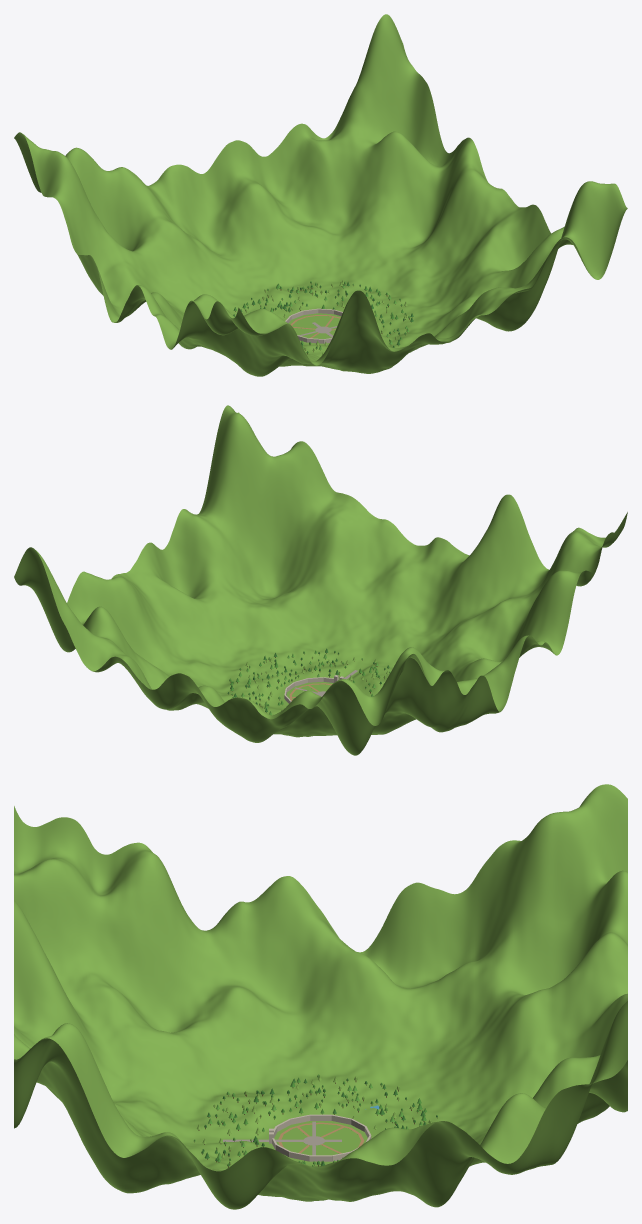
Rendered from kingdom_hy.glb.
The picture shows the model from 3 angles, top to bottom: view 1: azimuth 30°, elevation 25°; view 2: azimuth 150°, elevation 25°; view 3: azimuth 270°, elevation 25°; orthographic projection. The views are drawn at different scales.
Parts seen in each view (by area): view 1: Terrain-col, TreeLeaves; view 2: Terrain-col, TreeLeaves; view 3: Terrain-col, TreeLeaves, HiddenColWalls-col, Roads.
Part boxes in pixels (left/top/right/bottom): Terrain-col: left=14, top=14, right=627, bottom=376; TreeLeaves: left=233, top=280, right=413, bottom=355; Terrain-col: left=14, top=405, right=627, bottom=755; TreeLeaves: left=227, top=648, right=390, bottom=715; Terrain-col: left=14, top=784, right=627, bottom=1209; TreeLeaves: left=194, top=1074, right=437, bottom=1166; HiddenColWalls-col: left=272, top=1114, right=371, bottom=1161; Roads: left=223, top=1121, right=364, bottom=1155.
Size of the model in its own units: 720 by 334 by 720.
